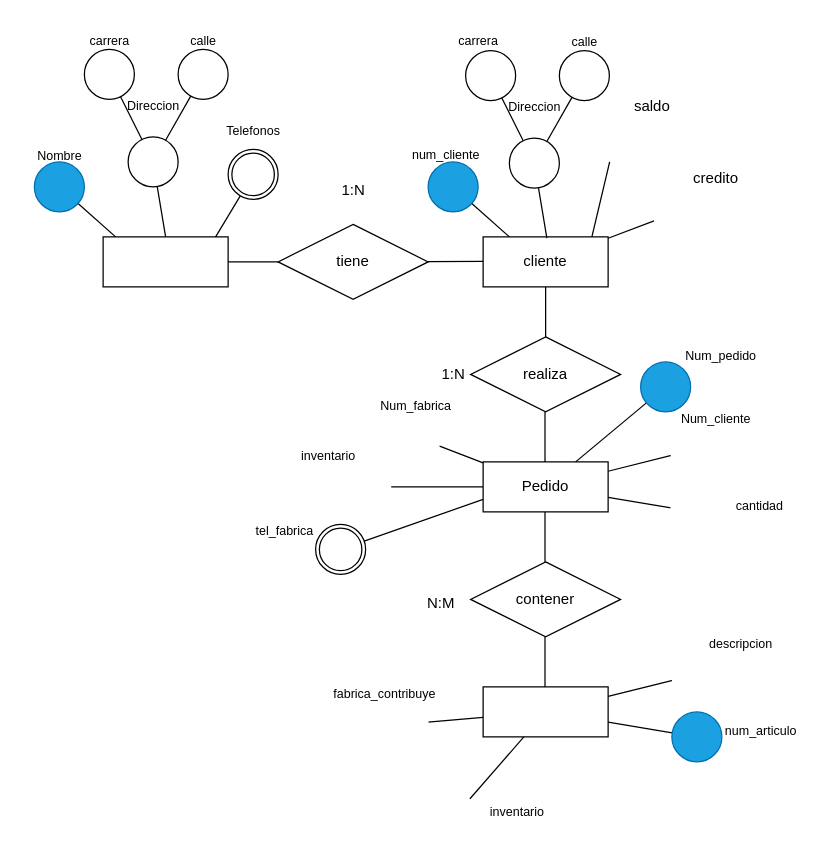
Some shapes in this 831 by 865 pixel diagram are drawn without their labels. Here are the shapes that lost their labels. From the top down, the centre of each, then its label:
the point at 165,261: Empresa
the point at 545,711: articulo
